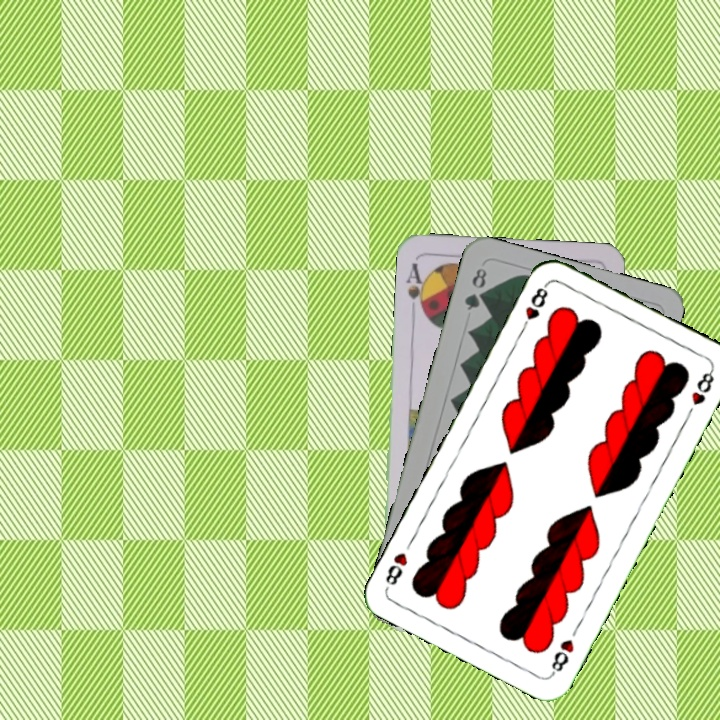G8: (460, 263, 490, 313)
H8: (517, 280, 551, 335), (547, 635, 577, 678)
SA: (402, 258, 430, 317)
